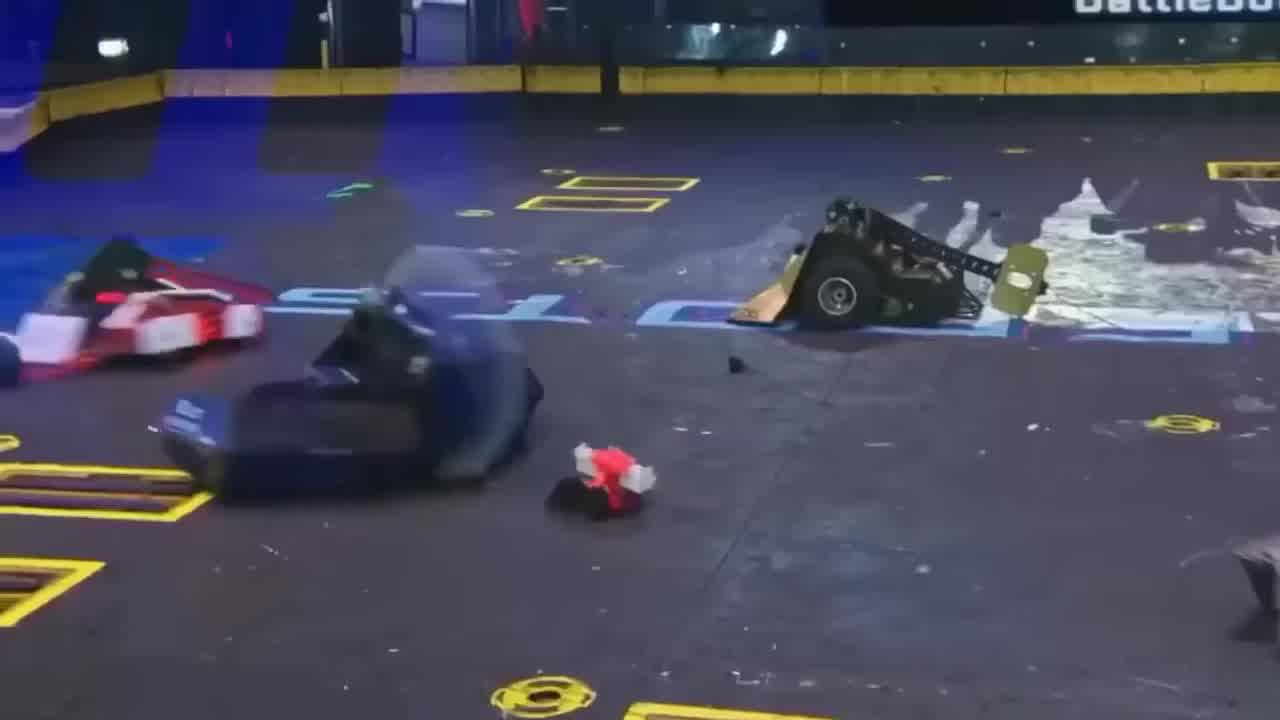combatbot: (146, 251, 542, 503), (696, 197, 1055, 340), (0, 236, 275, 393)
minibot: (545, 444, 656, 523)
